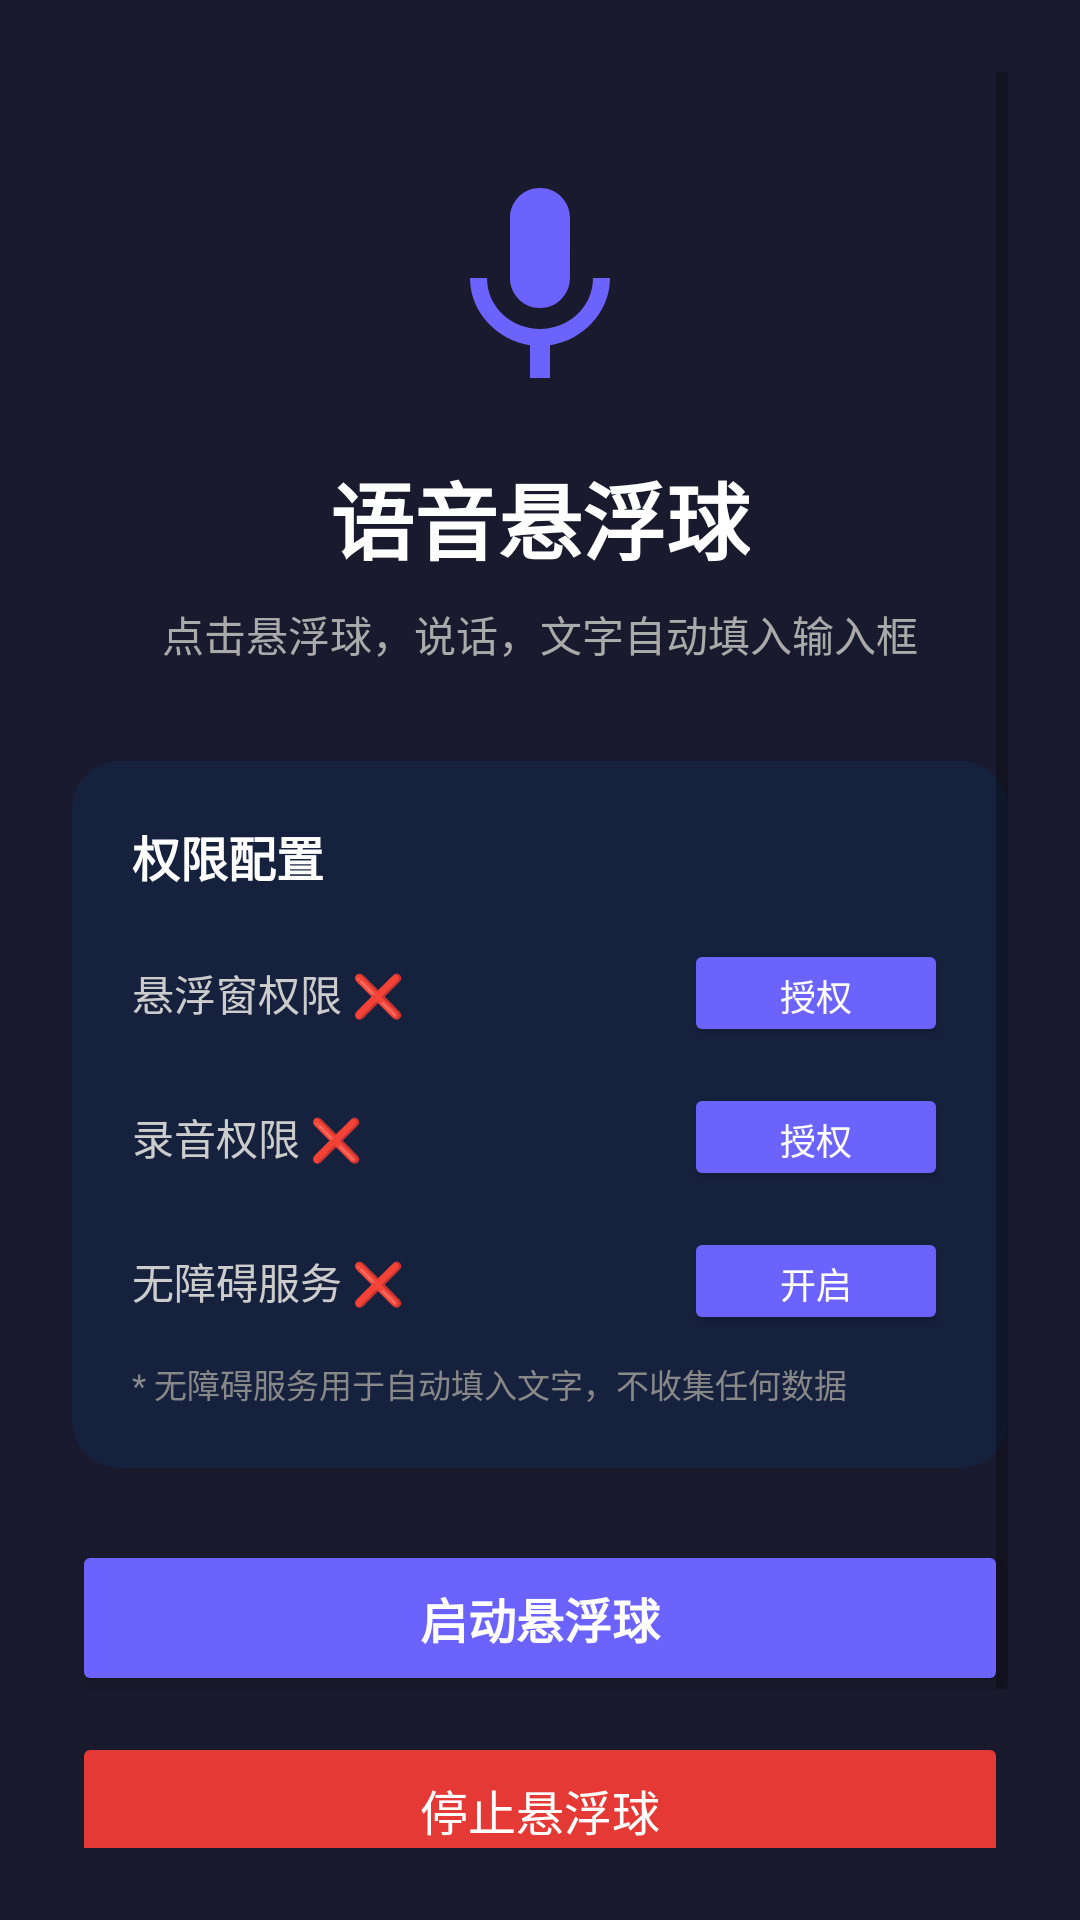

Locate icon controls on the screen. Image size 1080px x 1920px, boxes as (left=x1, top=y1, right=x2, bottom=y2).
mic: (left=470, top=188, right=610, bottom=378)
